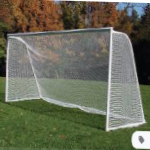goals: (4, 27, 149, 131)
